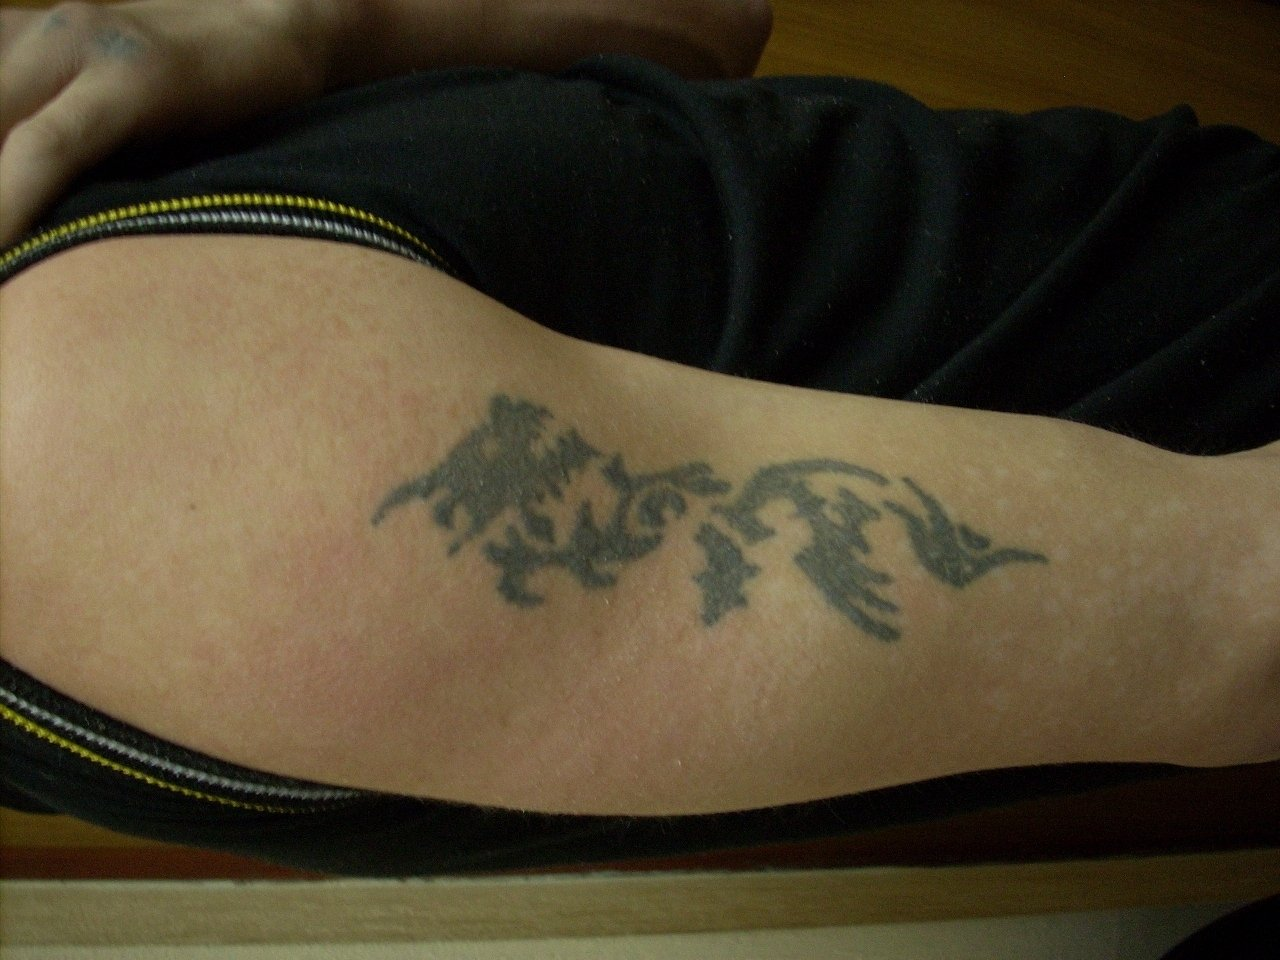tatu6_drakon: (352, 353, 1094, 681)
